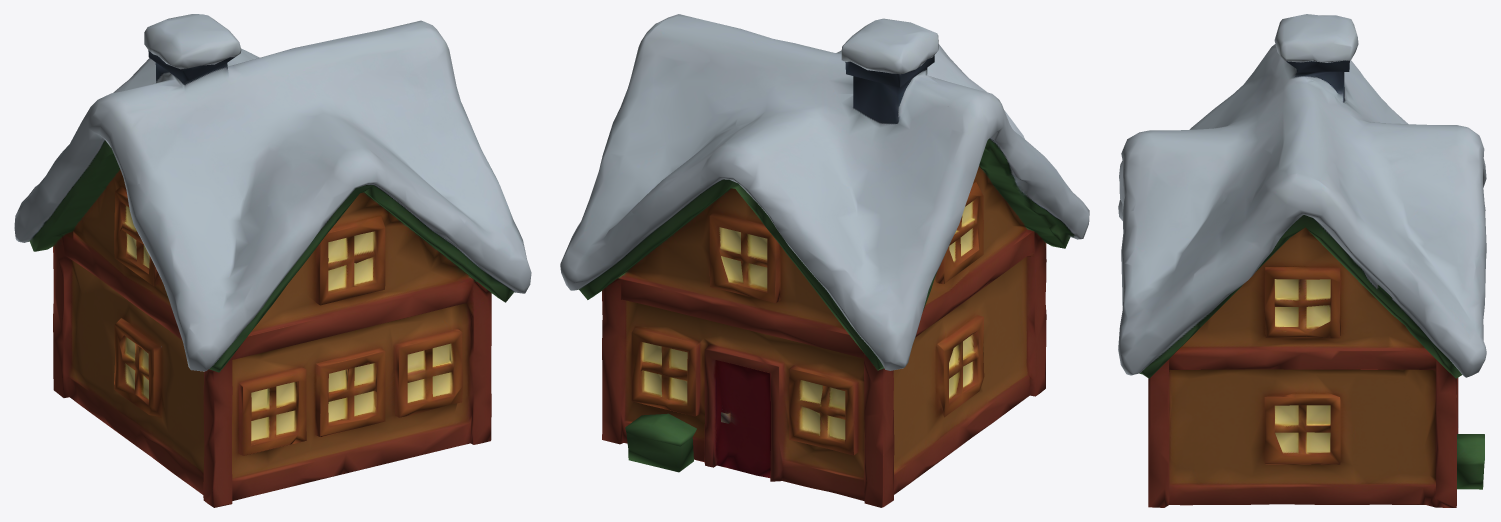
The model's file is house-b.glb.
The picture shows the model from 3 angles, left to right: view 1: azimuth 30°, elevation 25°; view 2: azimuth 150°, elevation 25°; view 3: azimuth 270°, elevation 25°; orthographic projection. The views are drawn at different scales.
Visible parts, largest first — view 1: tripo_node_78e1e5e6-78fd-4541-8d66-4c33c2839a1b; view 2: tripo_node_78e1e5e6-78fd-4541-8d66-4c33c2839a1b; view 3: tripo_node_78e1e5e6-78fd-4541-8d66-4c33c2839a1b.
Boxes of the visible parts, x1,y1,x2,y2 form: tripo_node_78e1e5e6-78fd-4541-8d66-4c33c2839a1b: (14, 14, 531, 507); tripo_node_78e1e5e6-78fd-4541-8d66-4c33c2839a1b: (560, 14, 1089, 507); tripo_node_78e1e5e6-78fd-4541-8d66-4c33c2839a1b: (1118, 14, 1486, 507).
Size of the model in its own units: 0.8979 by 1 by 0.8653.
Materials: 1 (1 with a texture image).
